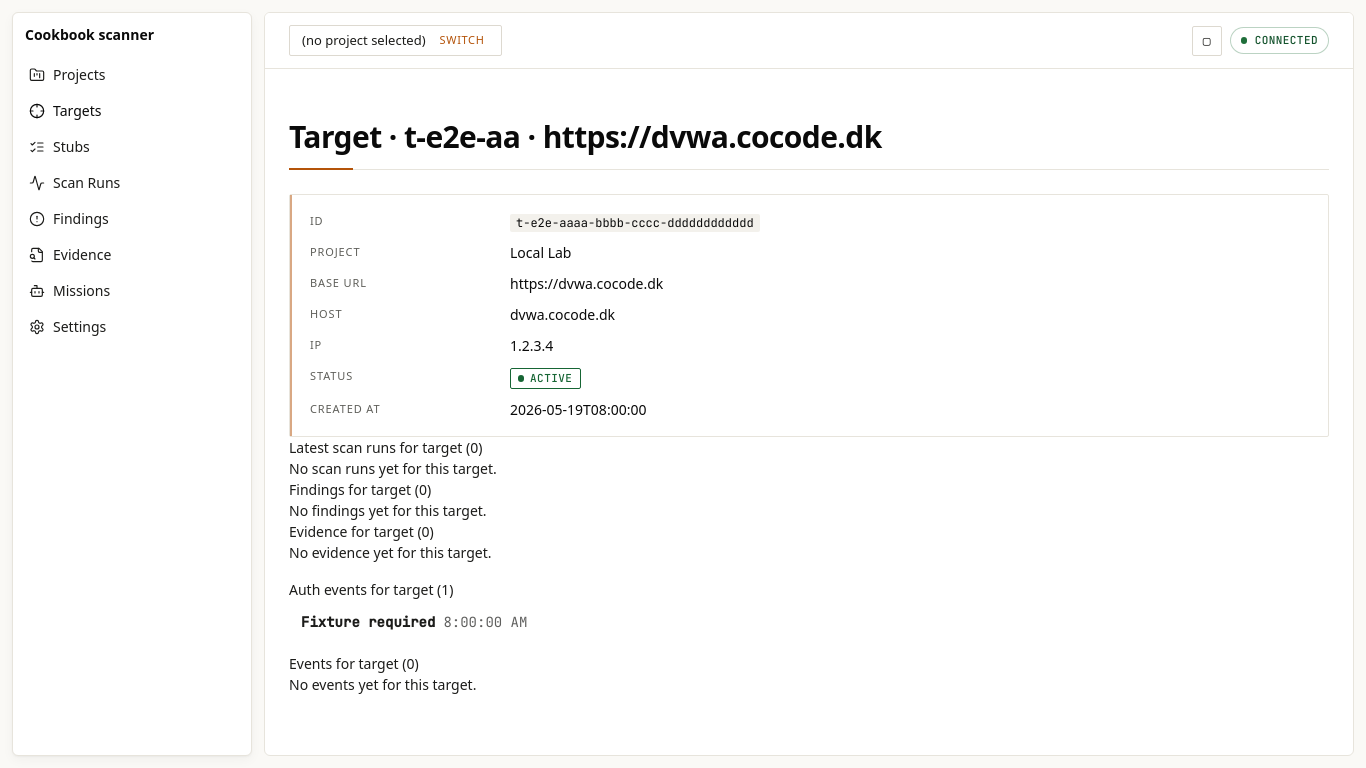
Test: end-to-end · target result › auth events panel appears for a target with auth events and is expandable
Click the button "Fixture required 8:00:00 AM".
click(368, 622)  # box [289,608,1329,637]
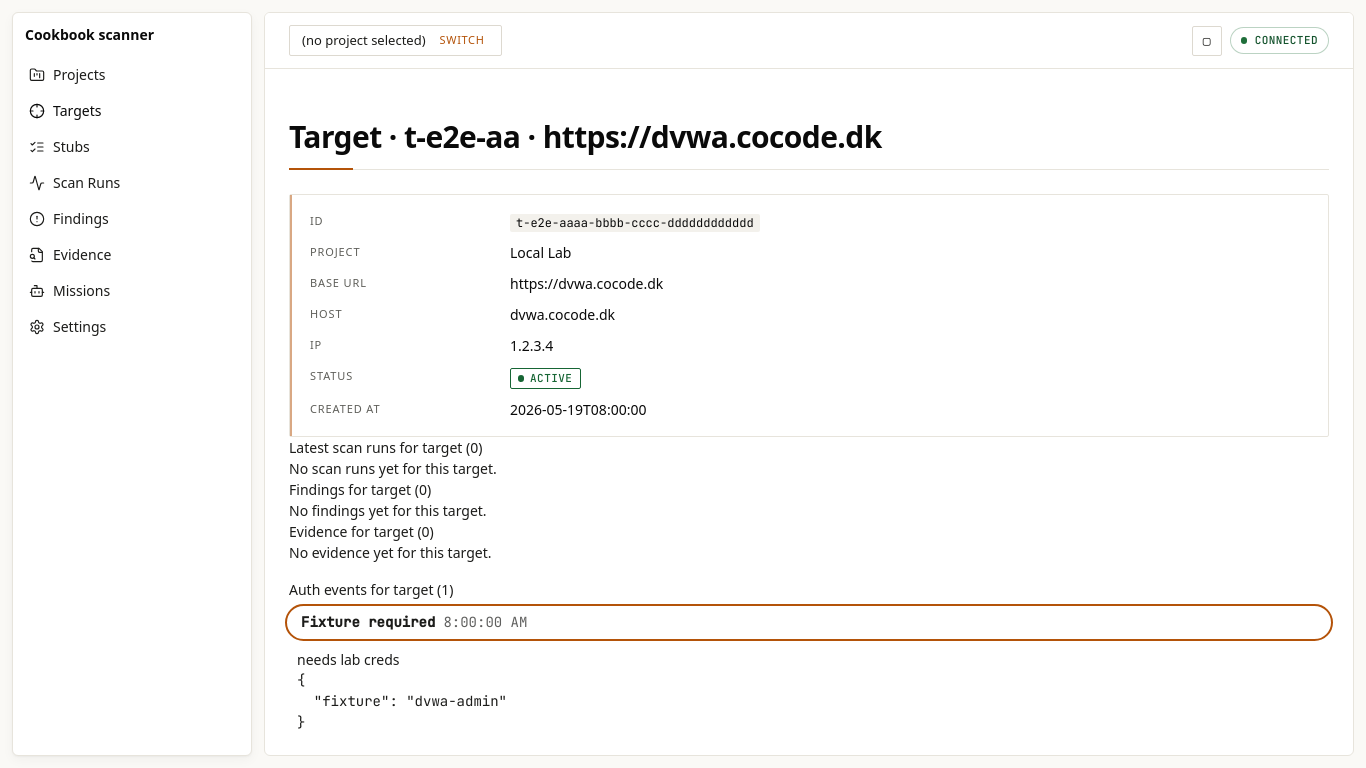
Now the text "needs lab creds" is shown, box [297,650,400,669]
Now the element with test id "auth-event-pill-detail" shows "\"fixture\": \"dvwa-admin\"", box [297,671,507,731]
